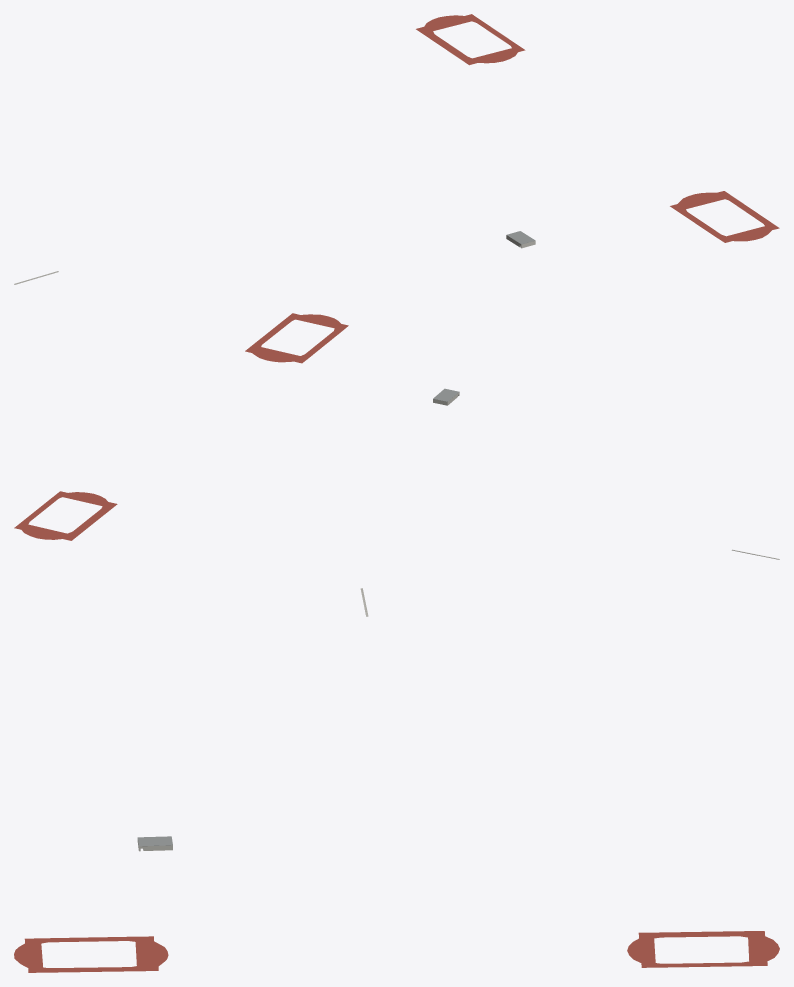
File: SEU_building_patch_v13.glb
3 views of the same model, one above another, from view 1: azimuth 30°, elevation 25°; view 2: azimuth 150°, elevation 25°; view 3: azimuth 270°, elevation 25° (orthographic). The views are drawn at different scales.
Visible parts, largest first — view 1: SEU_V13_OSMREL_11214073_TARTAN_SURFACE, SEU_V13_OSMREL_11214072_TARTAN_SURFACE; view 2: SEU_V13_OSMREL_11214073_TARTAN_SURFACE, SEU_V13_OSMREL_11214072_TARTAN_SURFACE; view 3: SEU_V13_OSMREL_11214073_TARTAN_SURFACE, SEU_V13_OSMREL_11214072_TARTAN_SURFACE.
Part boxes in pixels (bbox=[...]): SEU_V13_OSMREL_11214073_TARTAN_SURFACE: bbox=[670, 191, 779, 242]; SEU_V13_OSMREL_11214072_TARTAN_SURFACE: bbox=[416, 14, 525, 65]; SEU_V13_OSMREL_11214073_TARTAN_SURFACE: bbox=[245, 313, 348, 363]; SEU_V13_OSMREL_11214072_TARTAN_SURFACE: bbox=[14, 491, 117, 540]; SEU_V13_OSMREL_11214073_TARTAN_SURFACE: bbox=[14, 936, 168, 972]; SEU_V13_OSMREL_11214072_TARTAN_SURFACE: bbox=[627, 931, 779, 967].
Size of the model in its own units: 1058 by 6.52 by 891.
